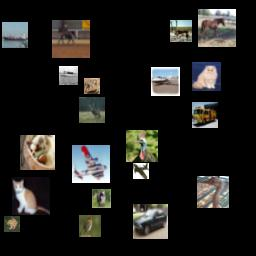airplane: (72, 145, 110, 183), (151, 67, 180, 96), (133, 163, 149, 179)
automobile: (133, 204, 168, 239)
bird: (197, 176, 229, 208), (126, 130, 158, 162), (79, 215, 101, 237)
cat: (12, 177, 50, 215), (192, 62, 221, 91)
deer: (79, 97, 105, 123), (170, 20, 192, 42)
dog: (20, 135, 55, 170), (92, 189, 111, 208)
frog: (4, 216, 20, 232), (84, 78, 100, 94)
ship: (2, 22, 28, 48), (59, 66, 78, 85)
truck: (192, 102, 218, 128)
